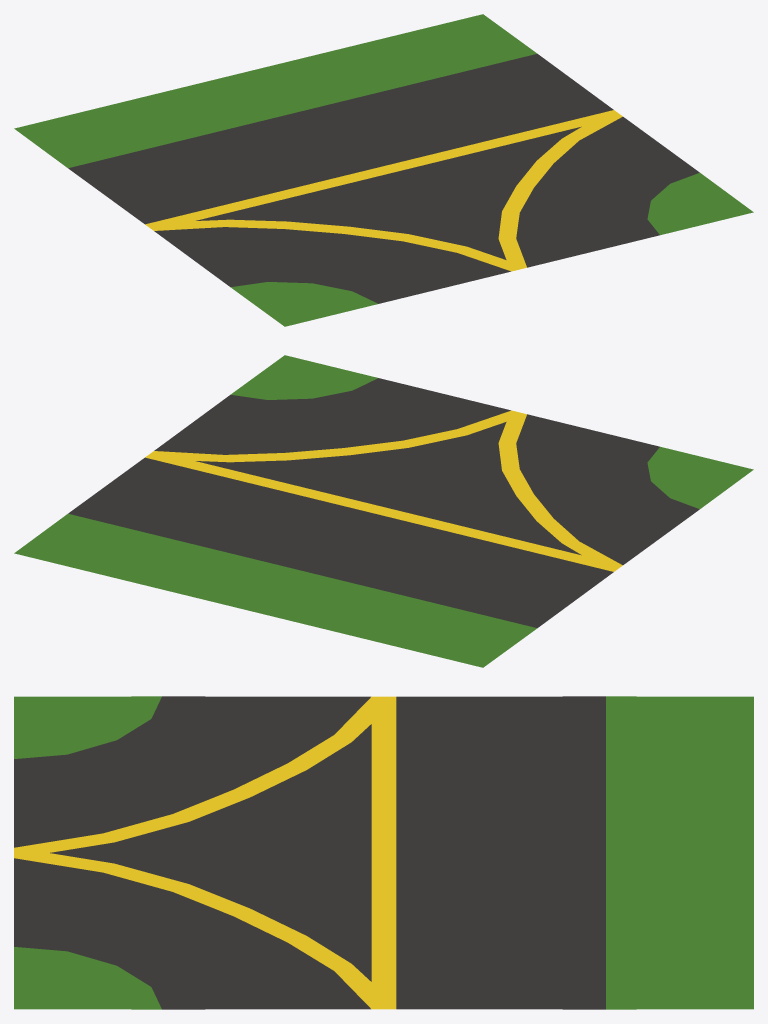
The model's file is tiles-nb_tile-runway-intersection-t-nb.fbx.
3 renders of one model, top to bottom at view 1: azimuth 30°, elevation 25°; view 2: azimuth 150°, elevation 25°; view 3: azimuth 270°, elevation 25°, orthographic. The views are drawn at different scales.
Parts seen in each view (by area): view 1: tiles_nb_tile_runway_intersection_t_nb; view 2: tiles_nb_tile_runway_intersection_t_nb; view 3: tiles_nb_tile_runway_intersection_t_nb.
Boxes of the visible parts, box(x1,y1,x2,y2) form: tiles_nb_tile_runway_intersection_t_nb: box(14, 14, 753, 326); tiles_nb_tile_runway_intersection_t_nb: box(14, 355, 753, 667); tiles_nb_tile_runway_intersection_t_nb: box(14, 696, 753, 1009).
Size of the model in its own units: 200 by 7.94e-06 by 200.
